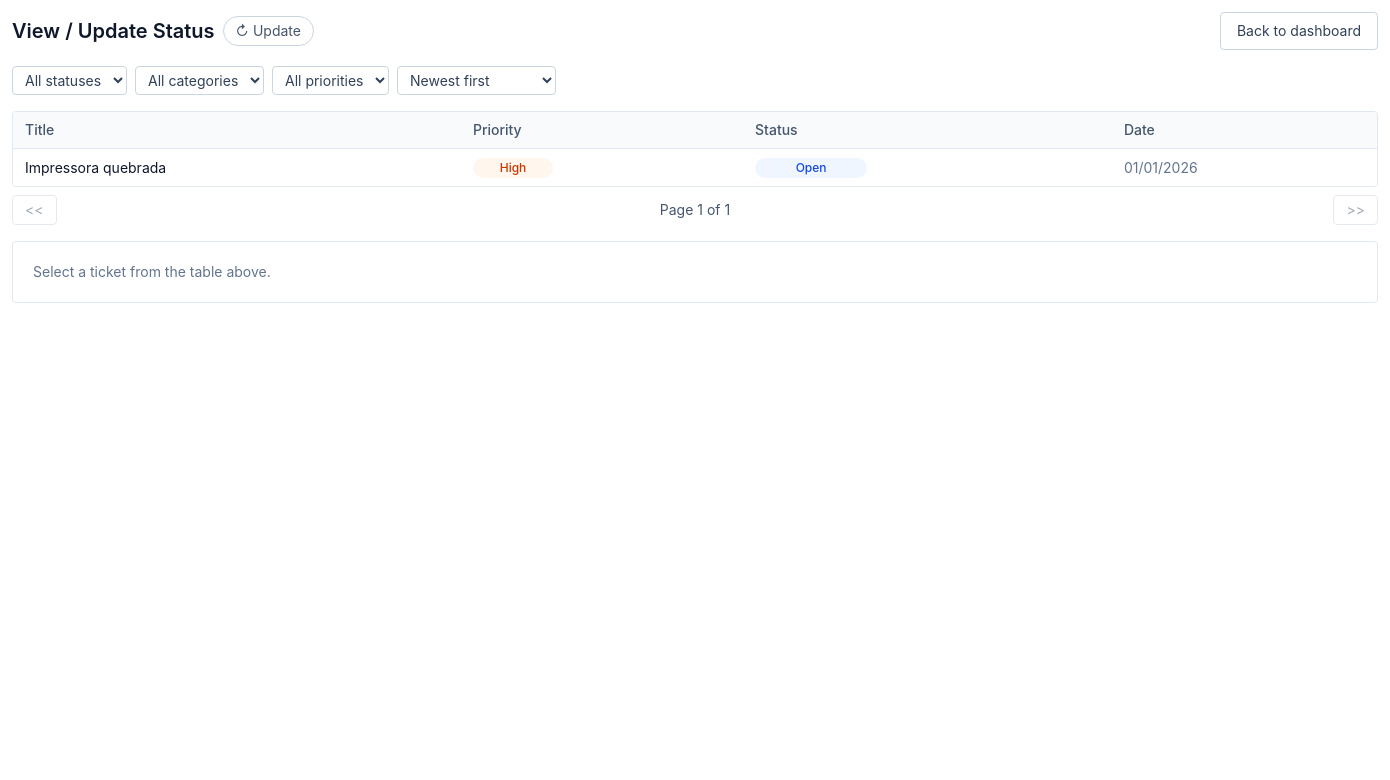
TicketStatusPage › fetches and shows the detail with history when a ticket is clicked
Step 1. Click the text "Impressora quebrada" → click(96, 167), box [13, 148, 461, 186]
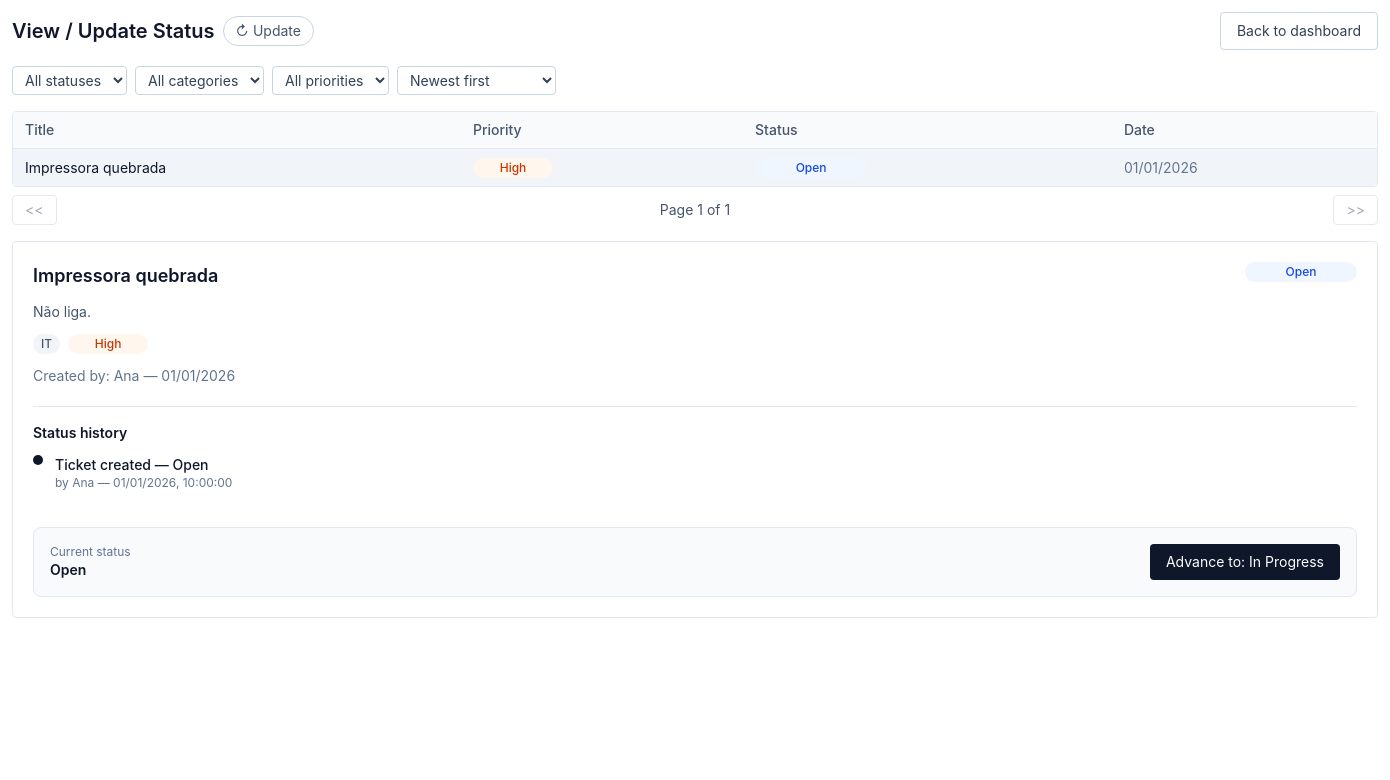
Expected: the text "Não liga." is shown, [33, 303, 91, 320]
Expected: the text "Created by: Ana — 01/01/2026" is shown, [33, 367, 235, 384]
